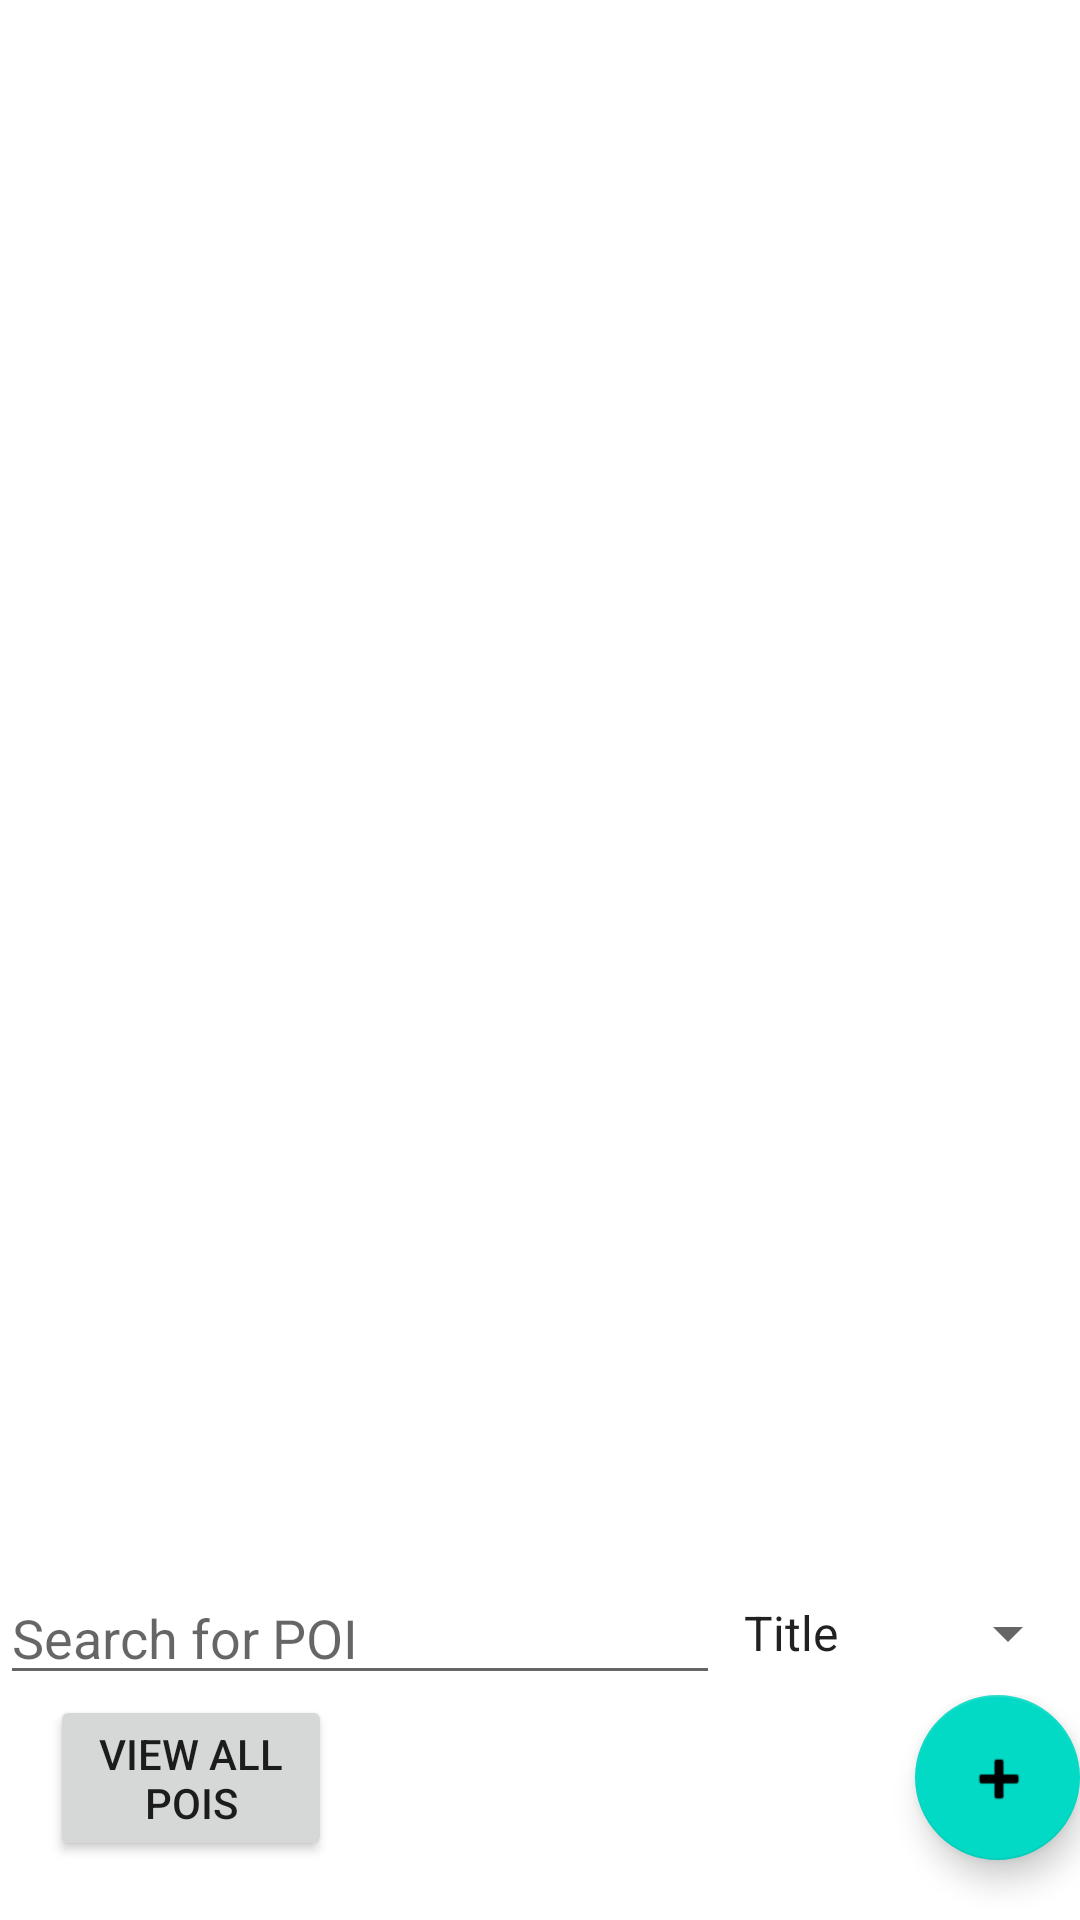

Screen size 1080px x 1920px. Icon name, then its box in pixels as [left=x1, top=y1, right=x2, bottom=y2]:
Add POI: [left=915, top=1695, right=1080, bottom=1860]
